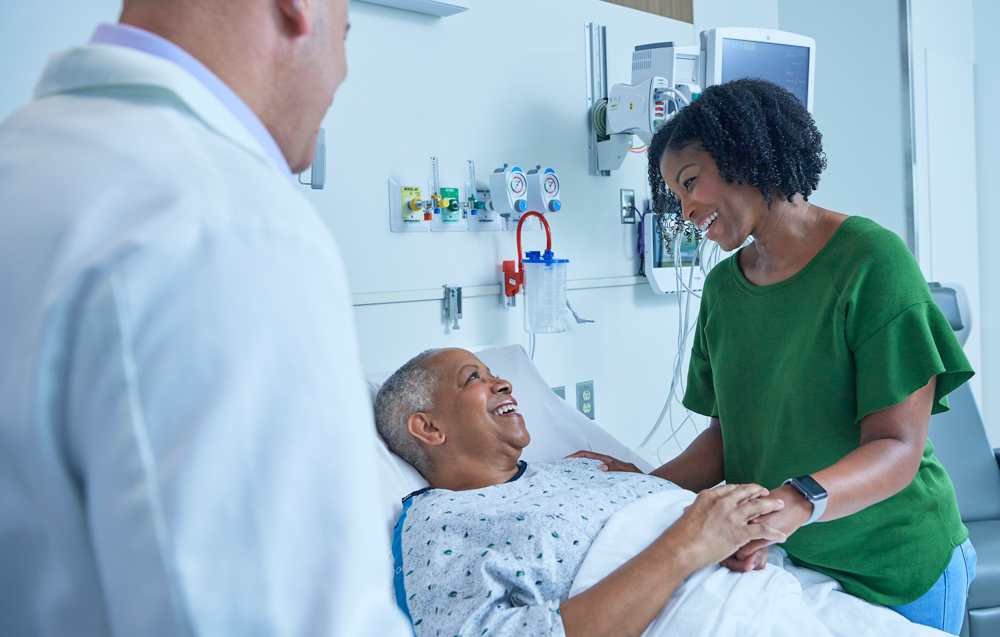visitor: (558, 45, 998, 636)
